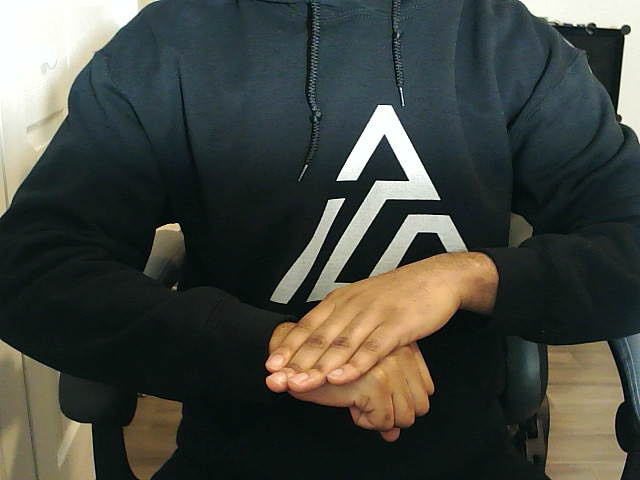Dog: (264, 251, 497, 443)
